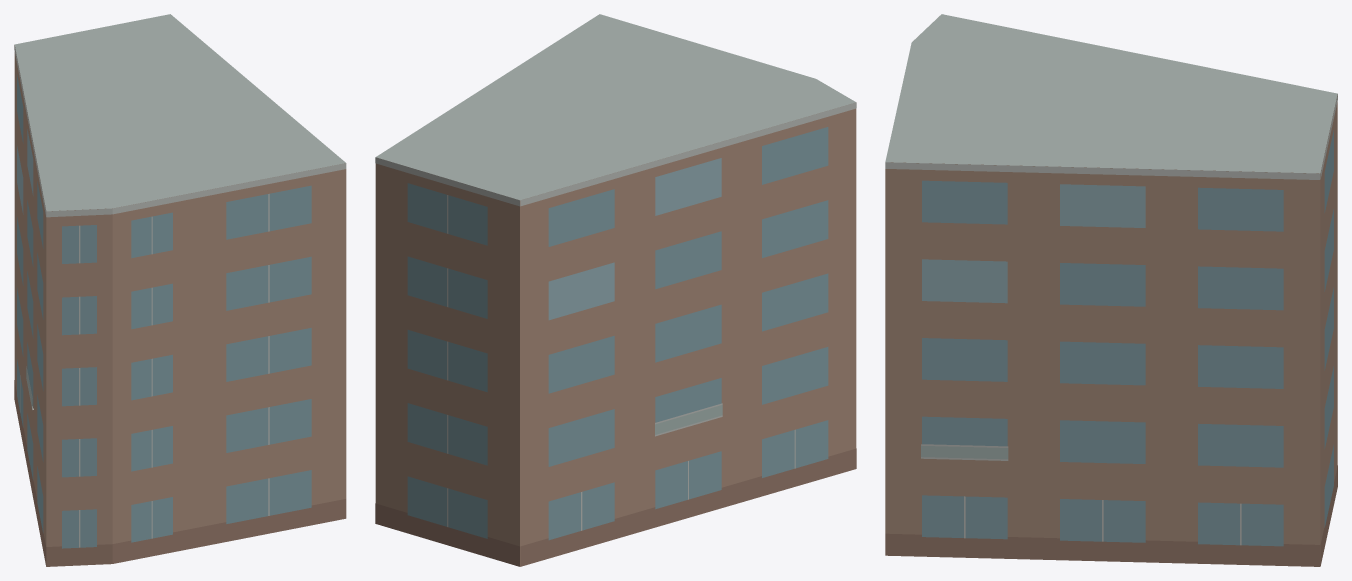
File: survey-upis-32478450.glb
The picture shows the model from 3 angles, left to right: view 1: azimuth 30°, elevation 25°; view 2: azimuth 150°, elevation 25°; view 3: azimuth 270°, elevation 25°; orthographic projection. The views are drawn at different scales.
Parts seen in each view (by area): view 1: survey-upis-32478450.tmp; view 2: survey-upis-32478450.tmp; view 3: survey-upis-32478450.tmp.
Part boxes in pixels (box(x1,y1,x2,y2)): survey-upis-32478450.tmp: box(14, 14, 346, 566); survey-upis-32478450.tmp: box(375, 14, 856, 566); survey-upis-32478450.tmp: box(885, 14, 1337, 566).
Size of the model in its own units: 12.62 by 14.5 by 15.13.
